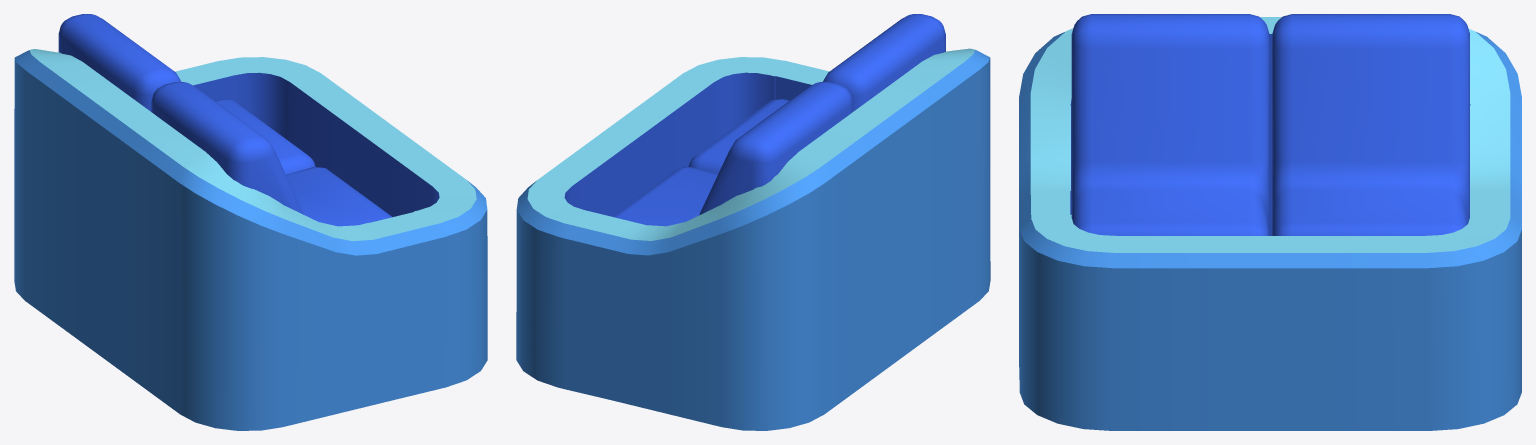
File: Cart_Expend_4.fbx
3 views of the same model, side by side, from view 1: azimuth 30°, elevation 25°; view 2: azimuth 150°, elevation 25°; view 3: azimuth 270°, elevation 25° (orthographic). The views are drawn at different scales.
Parts seen in each view (by area): view 1: Cart_Expend_4; view 2: Cart_Expend_4; view 3: Cart_Expend_4.
Part boxes in pixels (x1=…): Cart_Expend_4: x1=14, y1=14, x2=487, y2=430; Cart_Expend_4: x1=516, y1=14, x2=990, y2=430; Cart_Expend_4: x1=1019, y1=14, x2=1521, y2=430.
Size of the model in its own units: 185 by 156 by 248.
